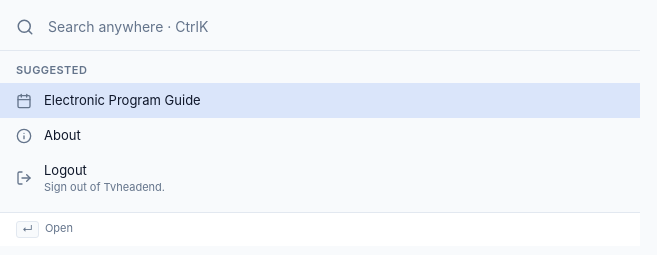
Test: CommandPalette › access-rights matrix › dvr user without admin — sees EPG + DVR + Logout; no admin actions / config / status
Type "digital" into the dropdown with class "command-palette__input" at (335, 27), box x1=46 y1=16 x2=624 y2=38
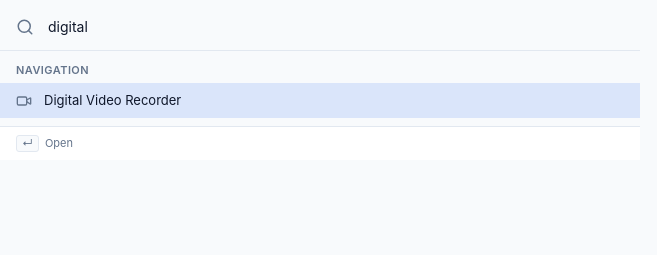
expect the text with class "command-palette__row-label" reads "Digital Video Recorder": met, box x1=44 y1=92 x2=181 y2=108
